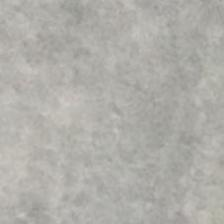Non_Crack: (48, 27, 224, 191)
